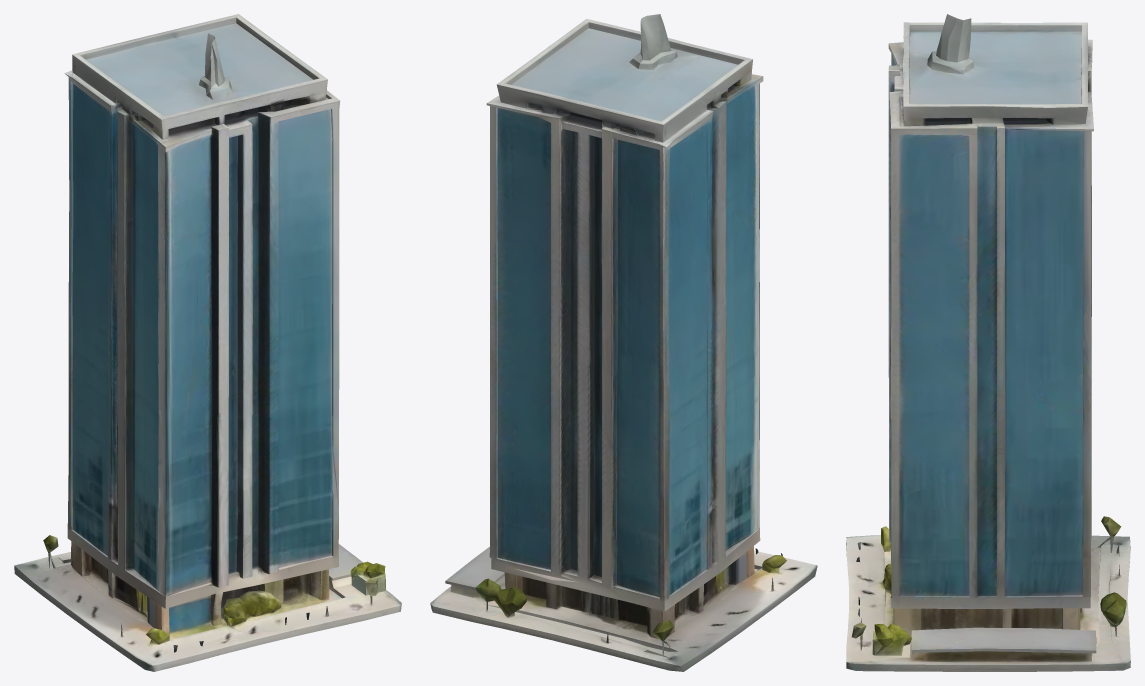
The model's file is m2SkylineTower.glb.
3 renders of one model, left to right at view 1: azimuth 30°, elevation 25°; view 2: azimuth 150°, elevation 25°; view 3: azimuth 270°, elevation 25°, orthographic. The views are drawn at different scales.
Visible parts, largest first — view 1: model; view 2: model; view 3: model.
Part boxes in pixels (x1,y1,x2,y2): model: (14, 14, 401, 671); model: (430, 14, 817, 671); model: (846, 14, 1130, 671).
Size of the model in its own units: 0.9052 by 1.9 by 0.8364.
Materials: 1 (1 with a texture image).
